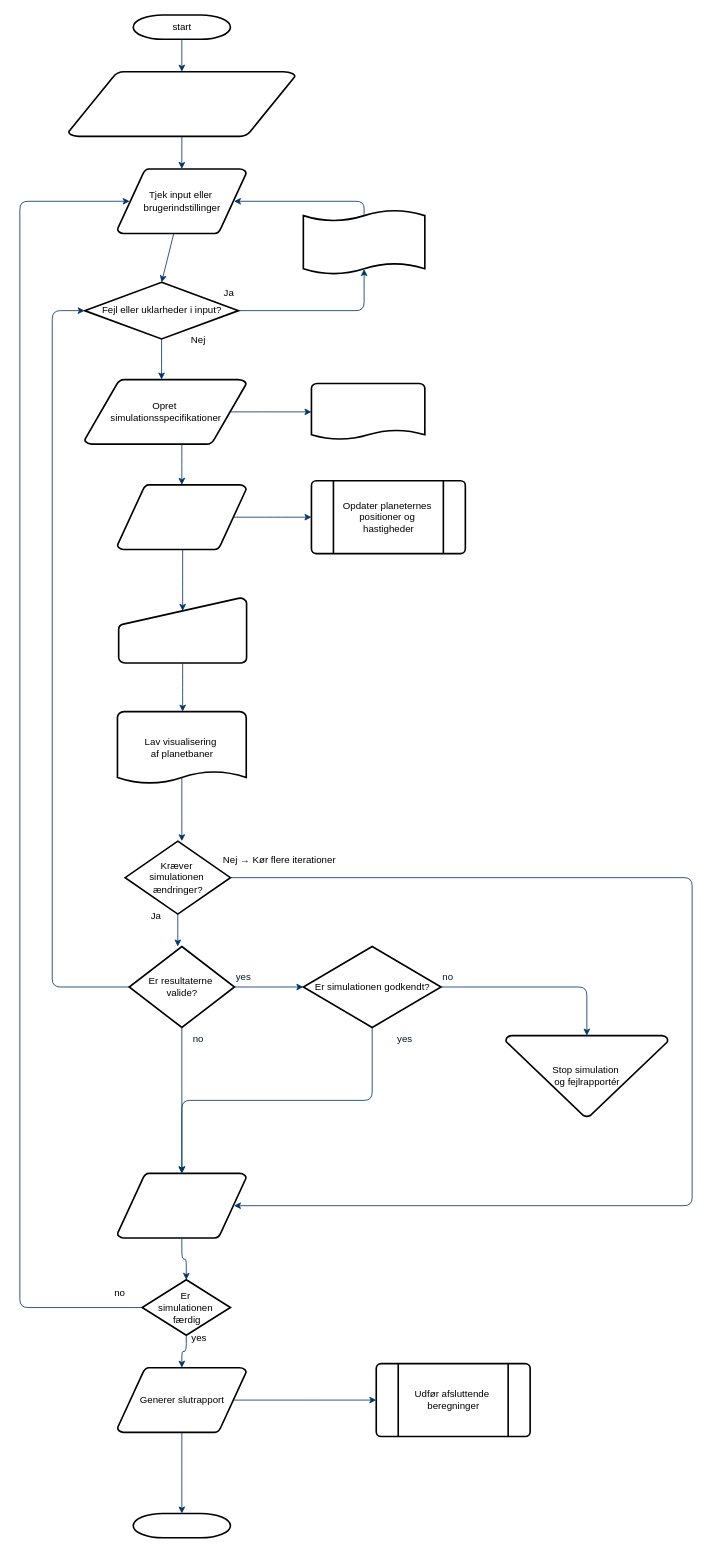
The diagram is 713 pixels wide and 1552 high, and some of its shapes have lost their labels. Here are the shapes that lost their labels. From the top down, the centre of each, then its label:
the point at 181,103: Initialiser parametre (planeter, hastigheder, masser osv.)
the point at 363,241: Ret fejl i input og genbekræft parametre
the point at 367,411: final project
the point at 181,517: Start simulation
the point at 182,630: Organiser beregningsprocessen
the point at 181,1205: Generer statusrapport
the point at 181,1525: Slut
